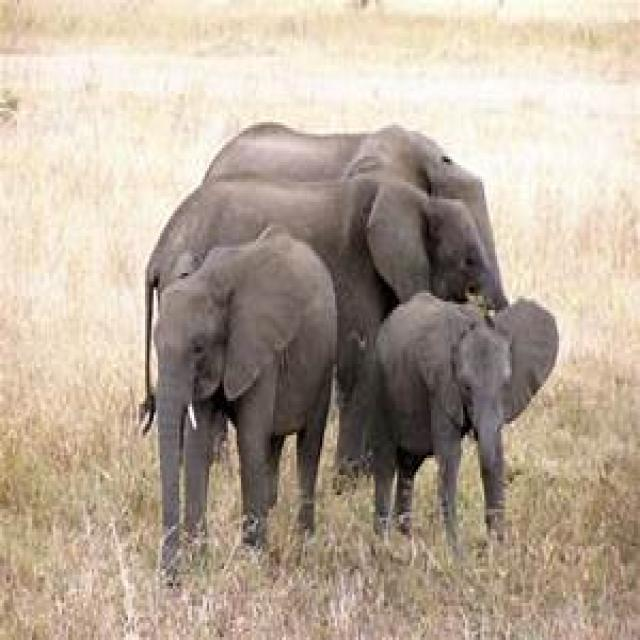elephant: (147, 174, 506, 466), (149, 228, 337, 586), (371, 293, 561, 558), (205, 122, 493, 245)
